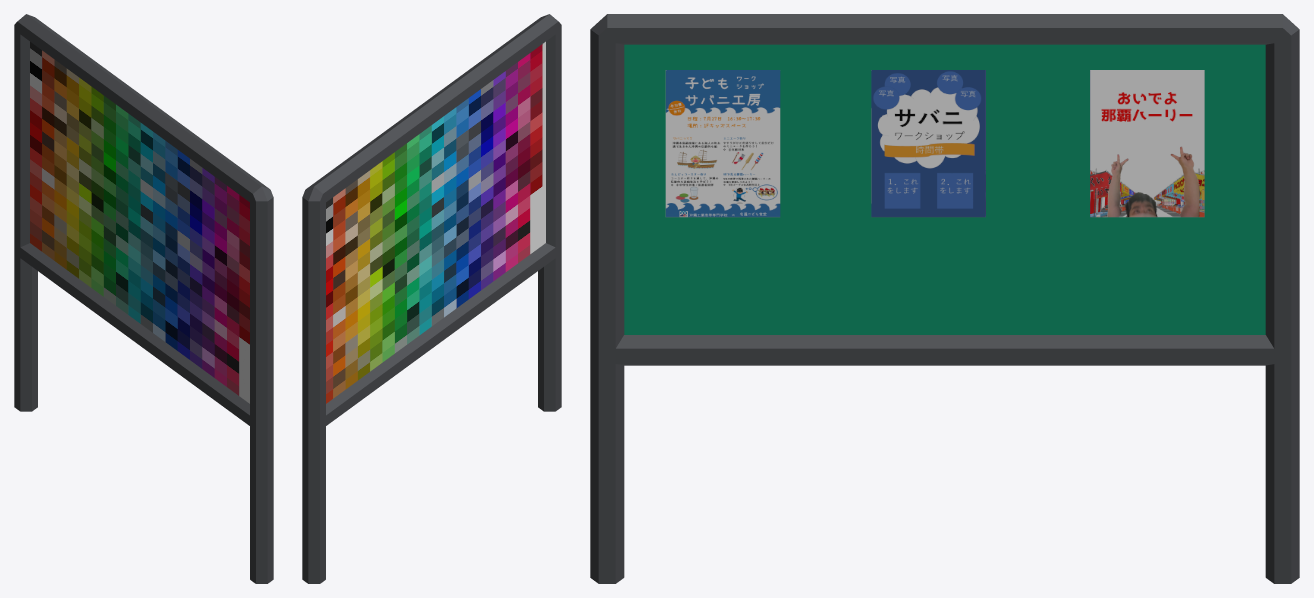
3 renders of one model, left to right at view 1: azimuth 30°, elevation 25°; view 2: azimuth 150°, elevation 25°; view 3: azimuth 270°, elevation 25°, orthographic. The views are drawn at different scales.
Parts seen in each view (by area): view 1: 平面.001, 円柱; view 2: 平面.001, 円柱; view 3: 平面, 円柱, 平面.002, 平面.003, 平面.004.
Boxes of the visible parts, <box> form: 平面.001: <box>30,41,249,403</box>; 円柱: <box>14,14,273,583</box>; 平面.001: <box>326,41,545,403</box>; 円柱: <box>302,14,561,583</box>; 平面: <box>624,44,1265,334</box>; 円柱: <box>590,14,1299,583</box>; 平面.002: <box>665,70,780,217</box>; 平面.003: <box>871,70,985,217</box>; 平面.004: <box>1090,70,1204,217</box>.
Size of the model in its own units: 22.28 by 473 by 539.
Materials: 2 (2 with a texture image).
